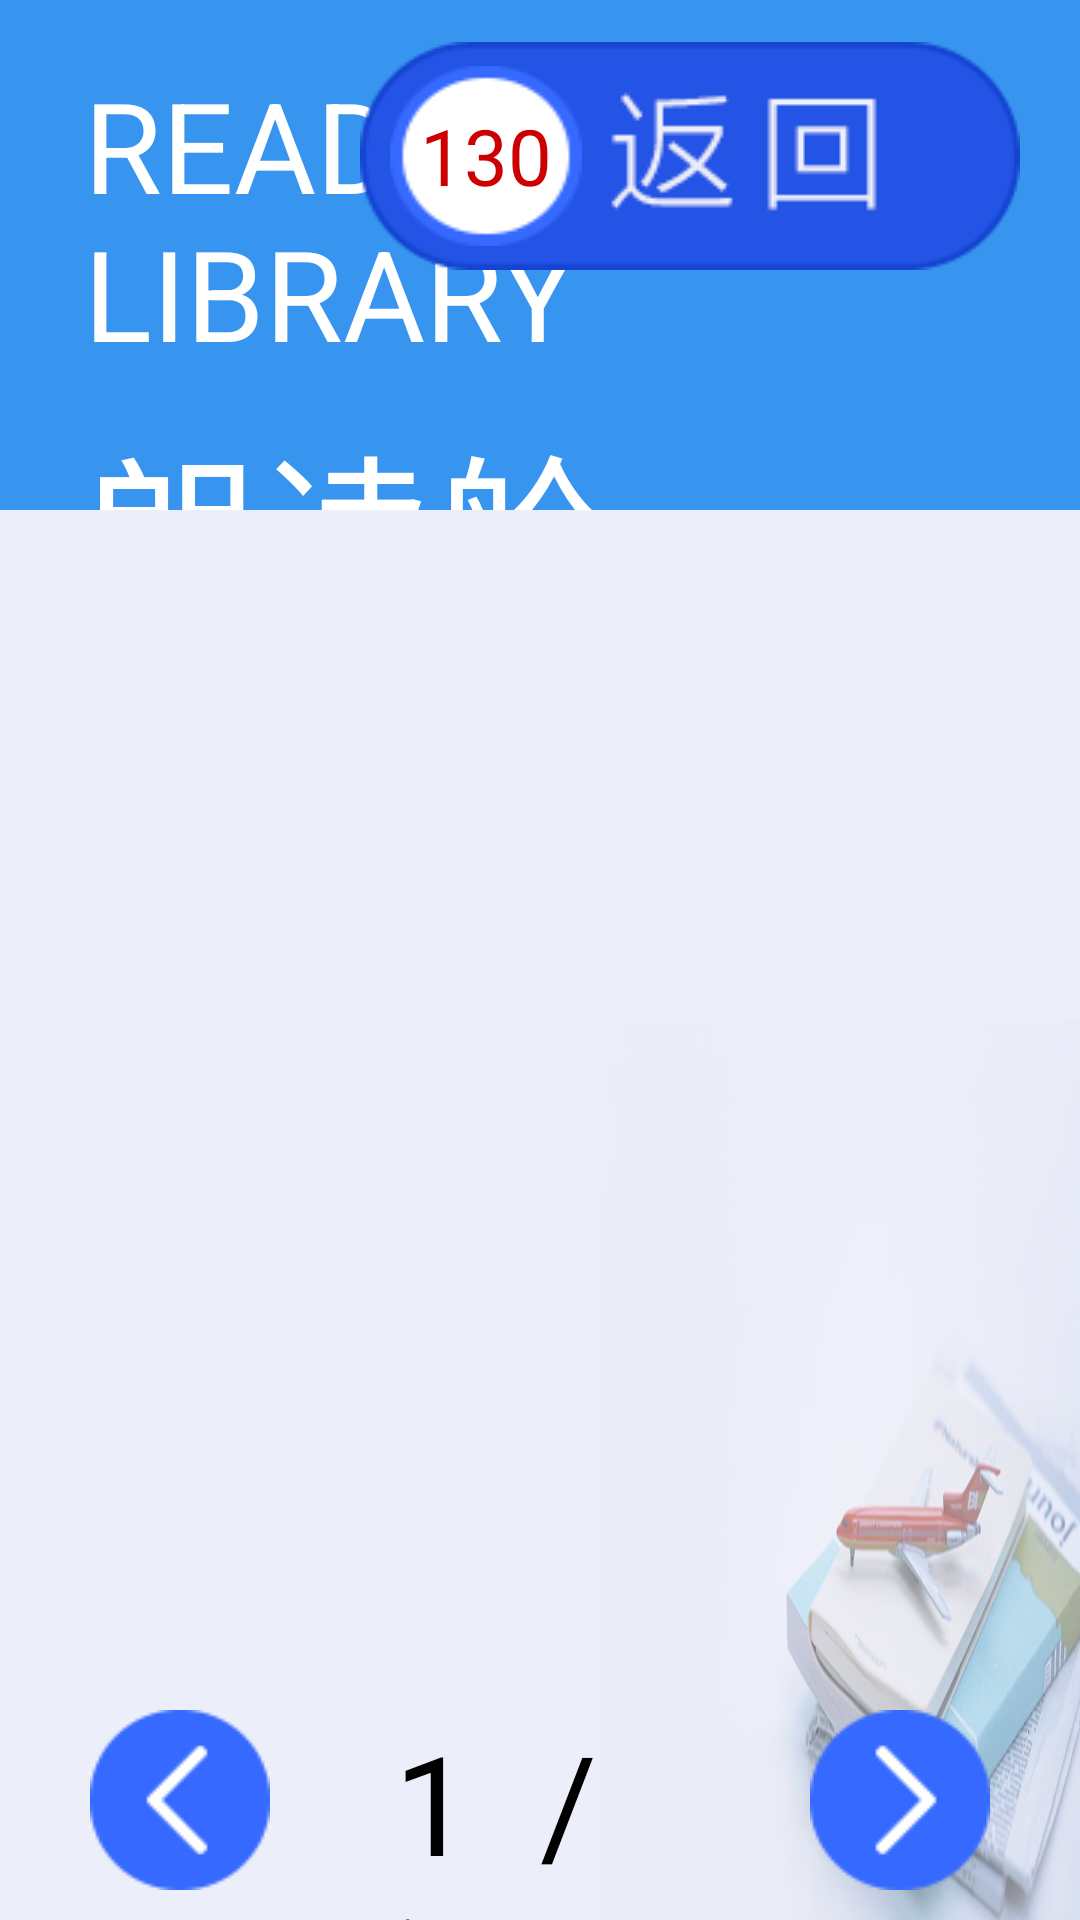

Screen size 1080w x 1920h. Icon name, then its center in pixels as (x=x, y=y):
turn left: (x=180, y=1800)
